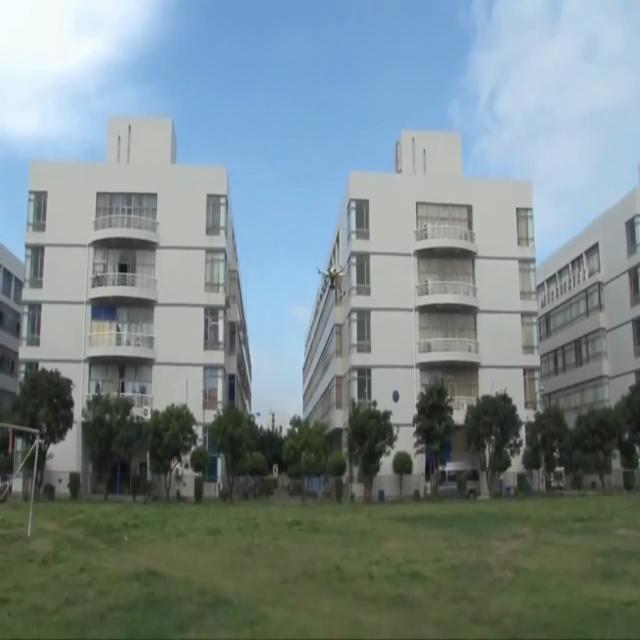drone: (316, 260, 346, 298)
